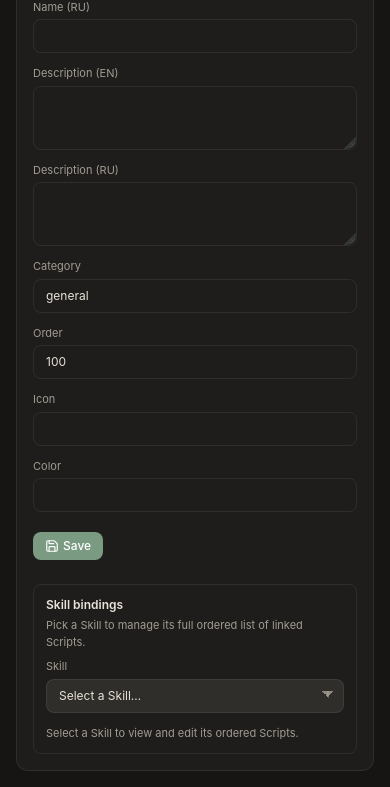
Scenario: AdminScriptsPage integration › ignores a stale binding-save response after selecting another Skill
This screenshot has width=390, height=787.
(page scrolled)
Select "Reporting" in the dropdown labelled "Skill": (195, 696) [46,678,344,712]
(page scrolled)
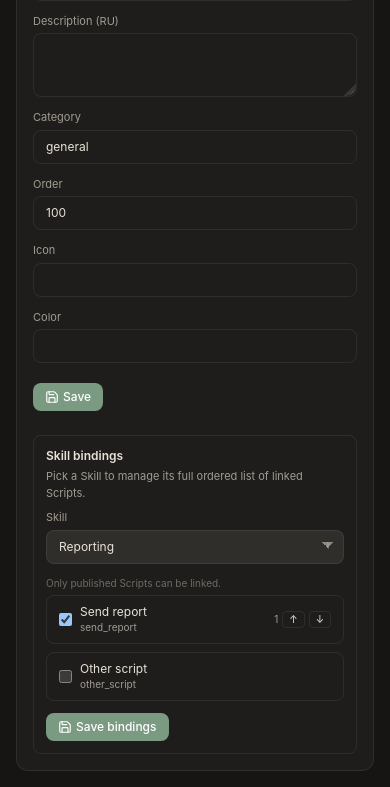
Check: the checkbox named "Link Script: Send report" is checked, box [59,612,72,626]
Click the button "Save bindings": (107, 726) [46,712,168,740]
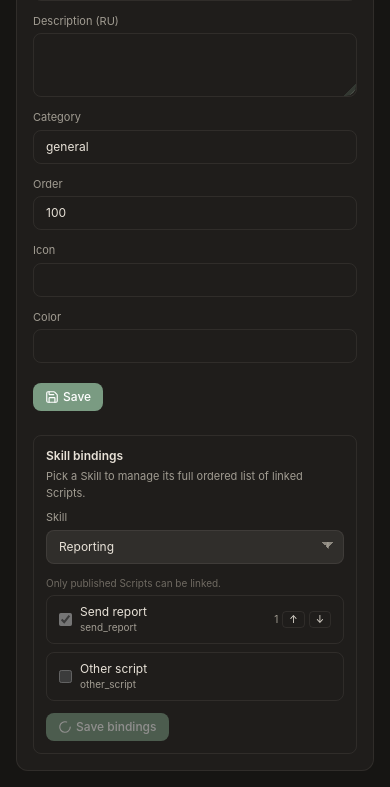
Select "Delivery" in the dropdown labelled "Skill": (195, 546) [46,530,344,564]
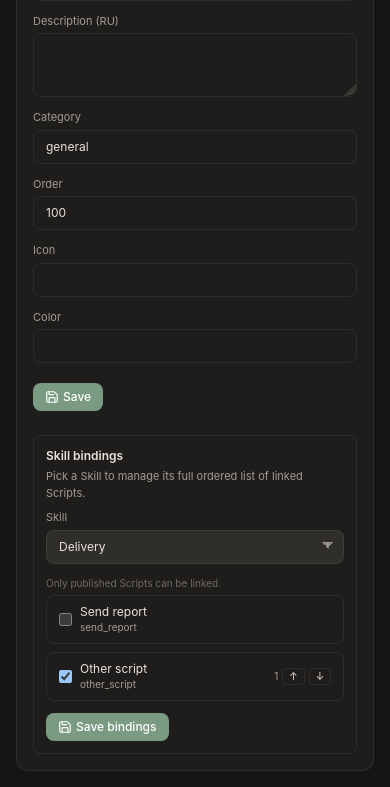
Check: the checkbox named "Link Script: Other script" is checked, box [59,670,72,682]
Check: the checkbox named "Link Script: Send report" is not checked, box [59,612,72,626]
Check: the button "Save bindings" is enabled, box [46,712,168,740]
